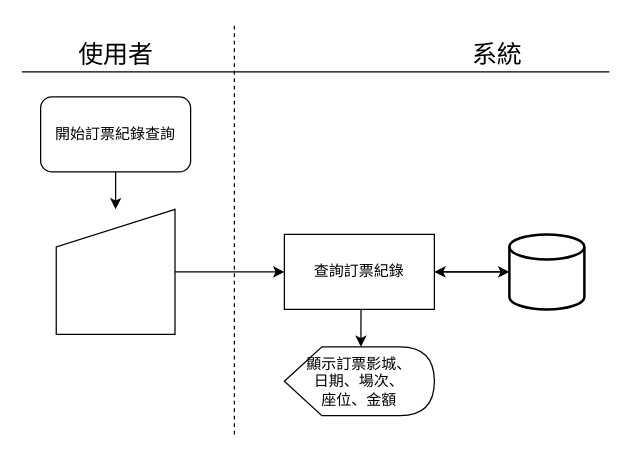
This 633x458 diagram has some shape labels left out. The shapes that lost their labels are listed below. From the top down, each one's centre as x and y in pixels, then its label:
pixel 115 271: 點擊欲查詢之 訂票紀錄
pixel 546 271: 資料庫
